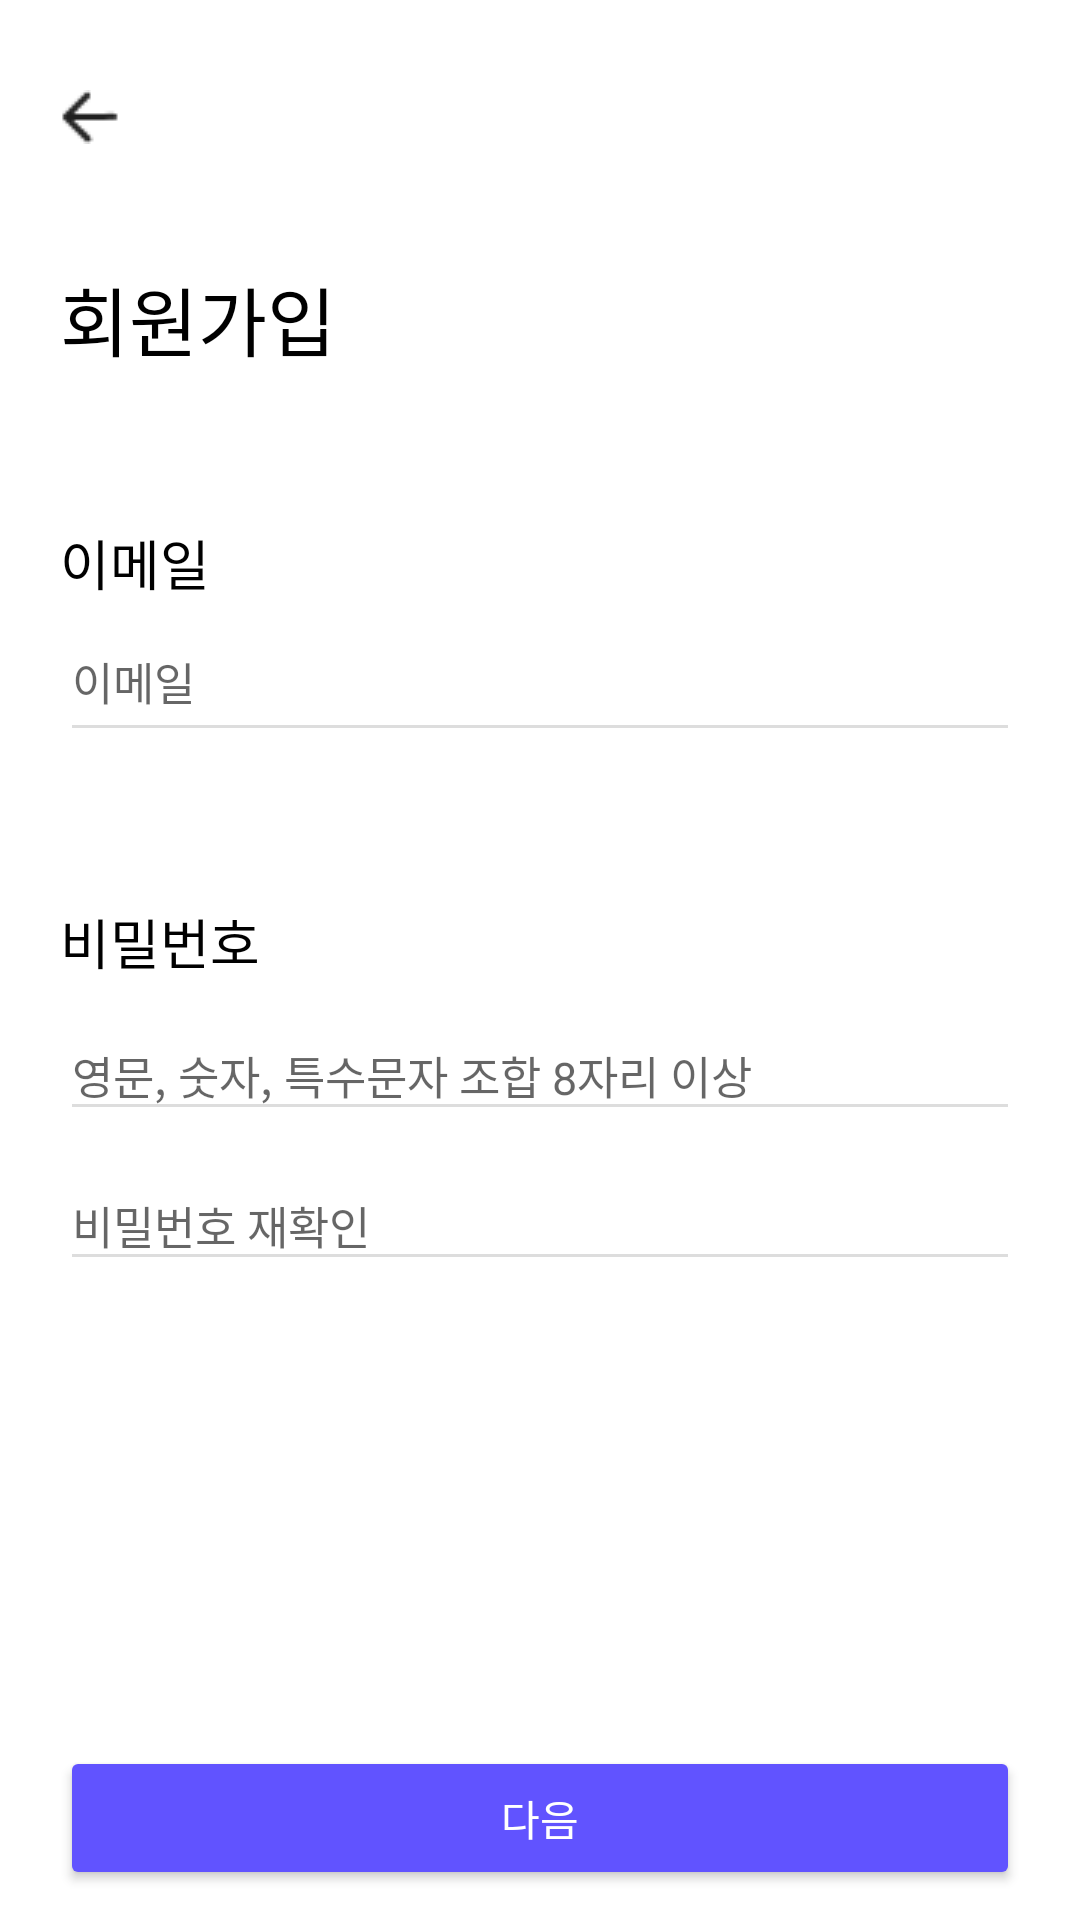

Where icons sit on this 1080 x 1920 app screen, as (left=x1, top=y1, right=x2, bottom=y2):
backward: (left=62, top=90, right=118, bottom=144)
